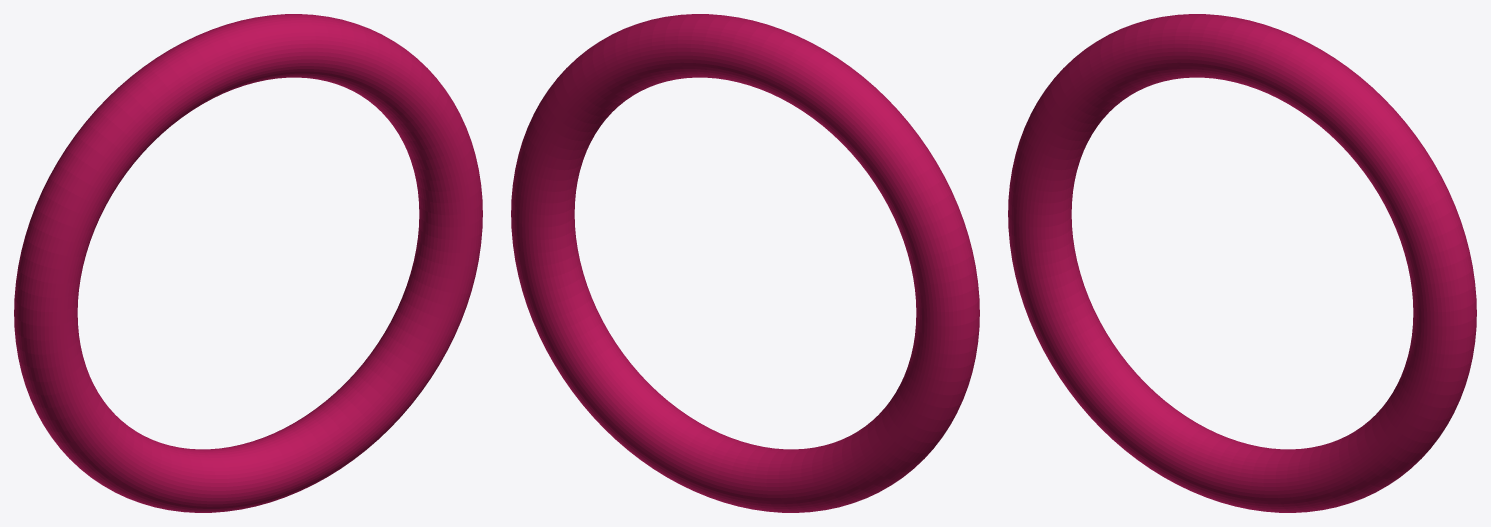
3 views of the same model, side by side, from view 1: azimuth 30°, elevation 25°; view 2: azimuth 150°, elevation 25°; view 3: azimuth 330°, elevation 25° (orthographic).
Visible parts, largest first — view 1: world; view 2: world; view 3: world.
Part boxes in pixels (x1=…): world: x1=14, y1=14, x2=482, y2=512; world: x1=511, y1=14, x2=979, y2=512; world: x1=1008, y1=14, x2=1476, y2=512.
Size of the model in its own units: 31.56 by 31.56 by 3.77.
